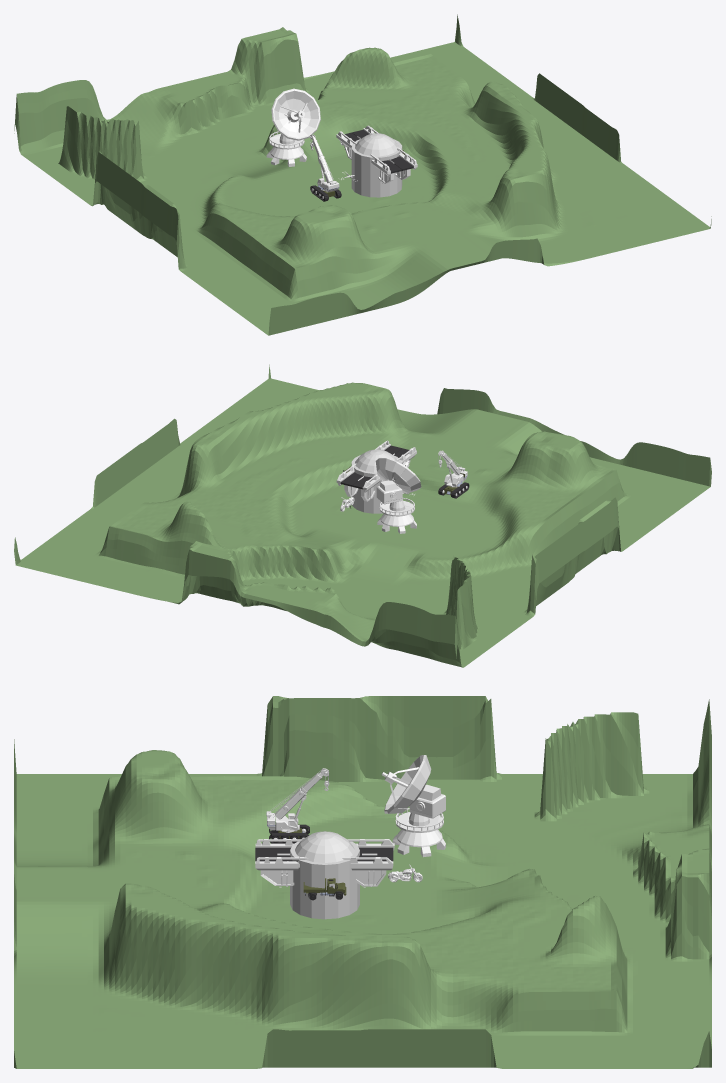
The model's file is tank.glb.
3 renders of one model, top to bottom at view 1: azimuth 30°, elevation 25°; view 2: azimuth 150°, elevation 25°; view 3: azimuth 270°, elevation 25°, orthographic. The views are drawn at different scales.
Parts seen in each view (by area): view 1: terrain, sattelite_dish, cylinder, bridge, capsule, crane; view 2: terrain, sattelite_dish, bridge, cylinder, crane, capsule; view 3: terrain, sattelite_dish, bridge, cylinder, capsule, crane.
Boxes of the visible parts, x1,y1,x2,y2 form: terrain: (14, 14, 711, 335); sattelite_dish: (266, 88, 320, 166); cylinder: (351, 139, 402, 197); bridge: (336, 125, 417, 183); capsule: (355, 133, 398, 156); crane: (310, 134, 339, 196); terrain: (14, 364, 711, 667); sattelite_dish: (375, 458, 421, 533); bridge: (336, 440, 416, 501); cylinder: (351, 455, 401, 513); crane: (438, 450, 467, 495); capsule: (355, 449, 398, 472); terrain: (14, 696, 711, 1068); sattelite_dish: (381, 755, 445, 857); bridge: (255, 839, 394, 887); cylinder: (290, 841, 359, 919); capsule: (295, 831, 354, 862); crane: (266, 768, 329, 839).
Bounding box in the file's own units: 20 × 4.36 × 20.
